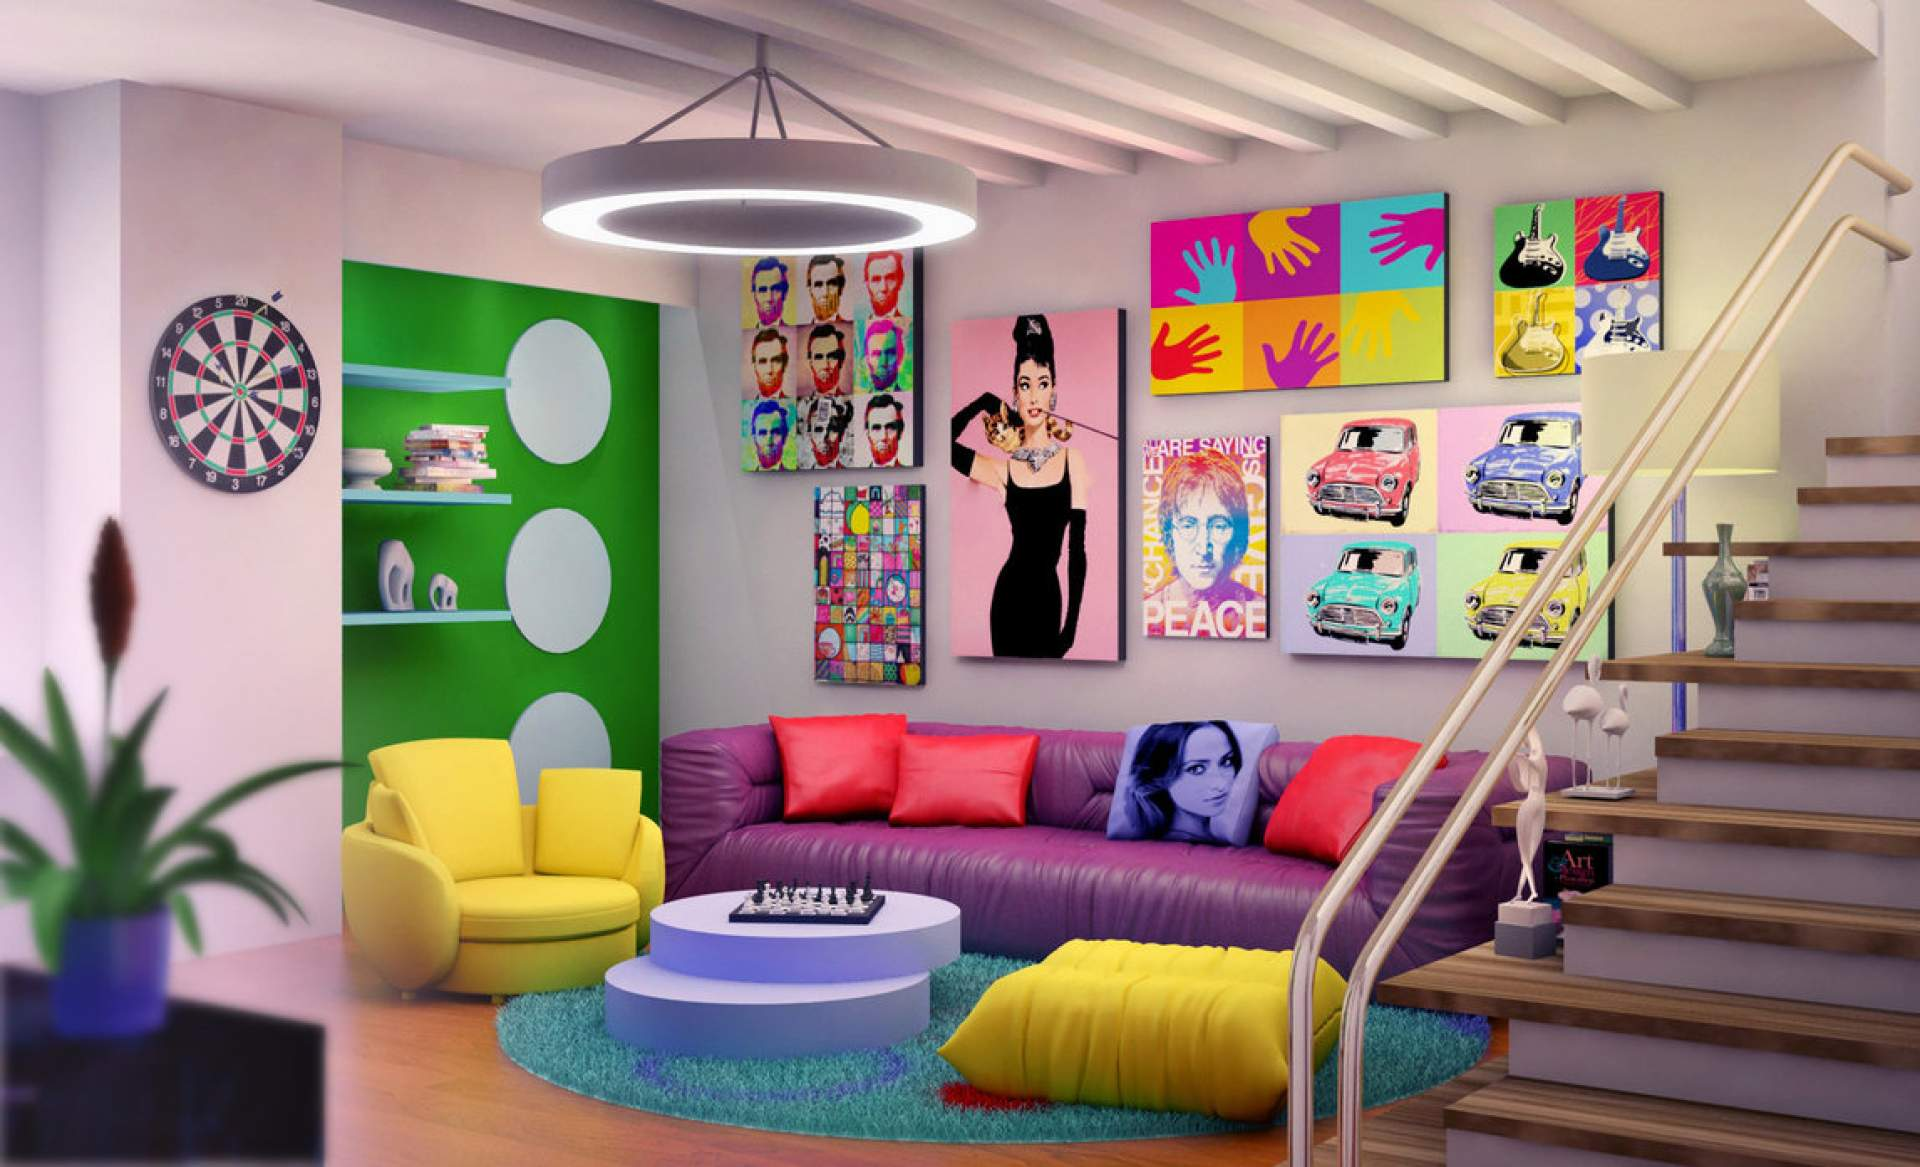biru: (41, 913, 171, 1037)
kuning: (343, 745, 650, 976), (955, 935, 1355, 1109)
merah: (769, 720, 1031, 831), (1270, 735, 1437, 849)
putih: (1581, 354, 1779, 474), (380, 535, 422, 609), (343, 448, 391, 494), (427, 573, 459, 613)
ungu: (993, 832, 1333, 946)
